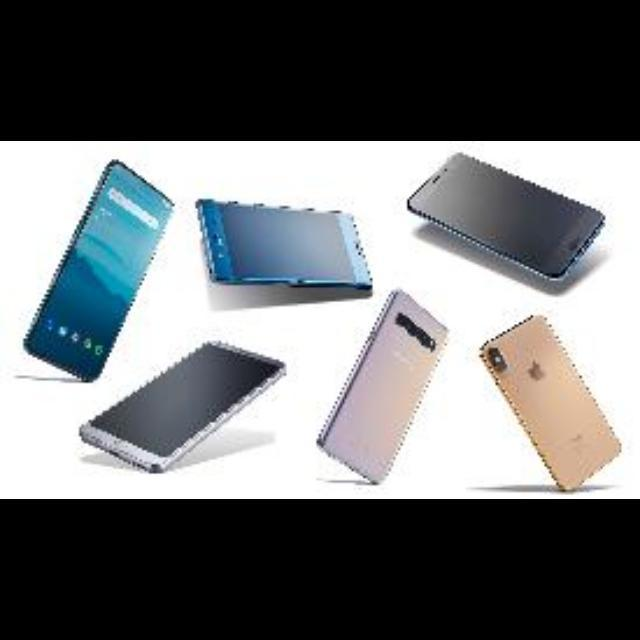PhoneUse: (24, 160, 176, 382), (80, 342, 288, 476), (318, 288, 450, 488), (405, 153, 605, 283), (479, 314, 618, 493), (196, 198, 372, 288)
